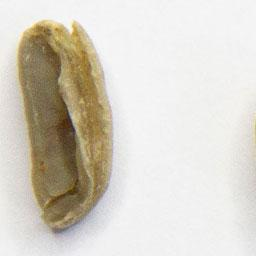peaberry: (14, 16, 118, 236)
